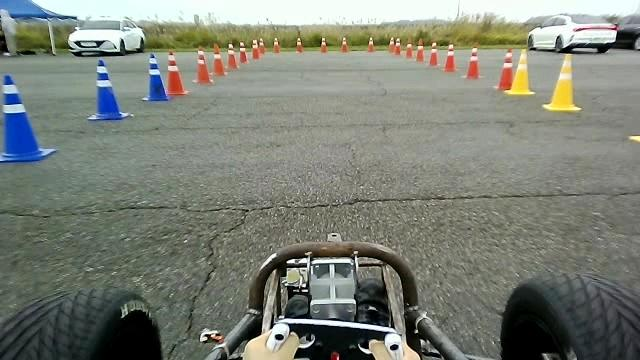blue cone: (0, 73, 56, 162), (87, 58, 129, 120), (141, 52, 169, 101)
red cone: (165, 50, 188, 95), (191, 45, 213, 85), (494, 47, 514, 90), (462, 45, 479, 79), (210, 42, 226, 76), (442, 43, 456, 71), (225, 43, 239, 70), (428, 42, 439, 67), (238, 40, 248, 63), (415, 37, 424, 62), (251, 38, 259, 58), (393, 38, 401, 55), (367, 36, 375, 52), (295, 37, 303, 53), (340, 36, 348, 52), (272, 37, 280, 53), (405, 42, 413, 58), (257, 38, 265, 54), (320, 37, 327, 53), (388, 37, 394, 52)
yellow cone: (542, 52, 581, 111)
